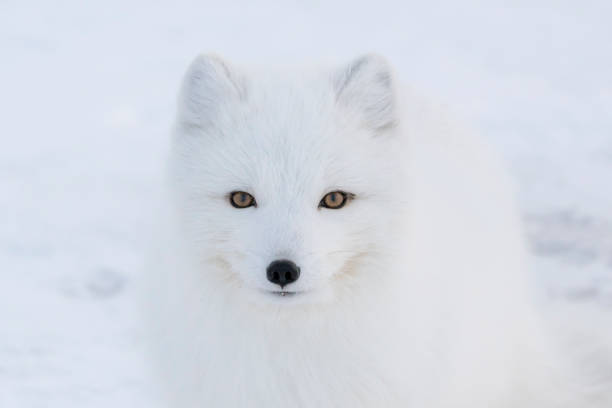arcticfox: (198, 101, 395, 336)
